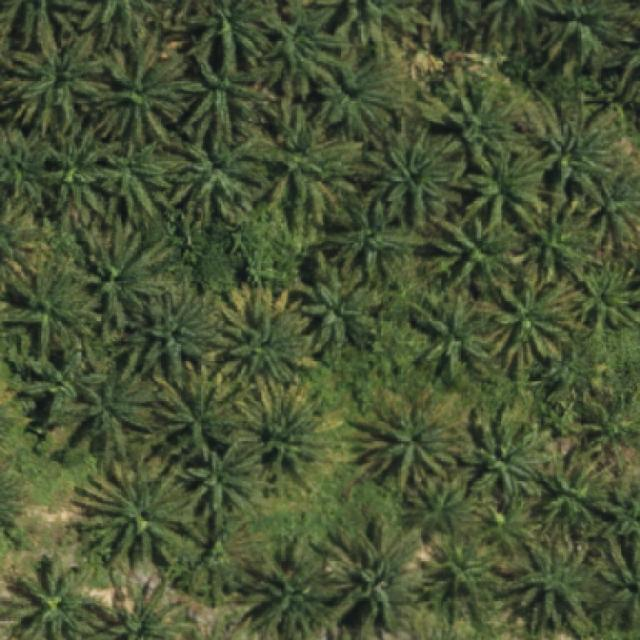Kelapa_Sawit: (70, 455, 208, 570), (208, 278, 322, 405), (254, 106, 366, 234), (316, 512, 424, 639), (358, 115, 468, 231), (64, 218, 174, 333), (232, 374, 343, 486), (348, 390, 464, 495), (11, 19, 114, 124), (127, 275, 222, 388), (2, 253, 106, 355), (460, 402, 555, 513), (308, 42, 417, 138), (490, 267, 584, 378), (427, 76, 531, 176), (450, 136, 555, 233), (503, 535, 600, 640), (528, 102, 623, 208), (151, 359, 246, 464), (66, 362, 162, 464), (327, 195, 431, 287), (406, 282, 497, 386), (171, 126, 266, 220), (35, 123, 120, 228), (517, 193, 614, 285), (422, 212, 524, 298), (297, 251, 377, 360), (537, 443, 626, 540), (419, 529, 503, 628), (18, 338, 108, 427), (257, 0, 351, 83), (99, 133, 178, 218), (180, 437, 258, 520), (475, 486, 547, 560), (403, 474, 469, 541)
